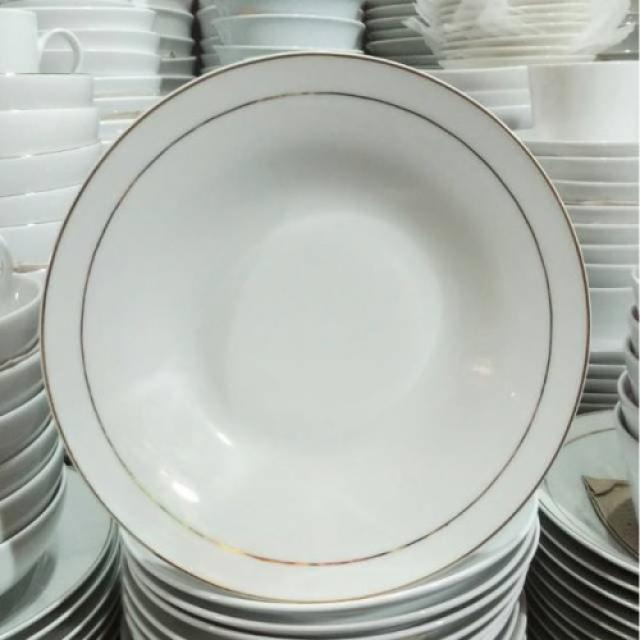Plate: (41, 55, 600, 614)
